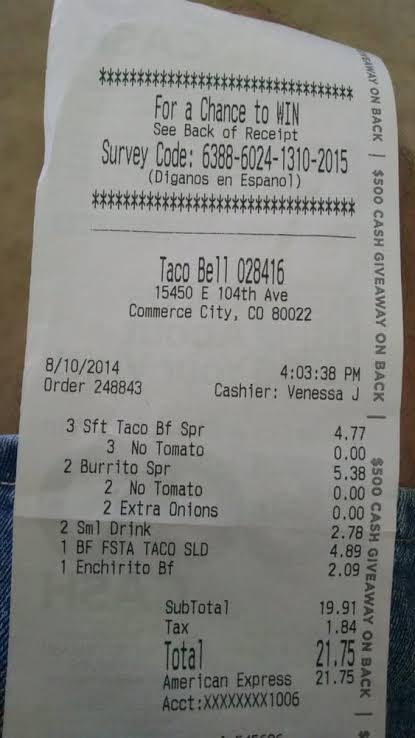Taco Bell: (154, 247, 234, 287)
